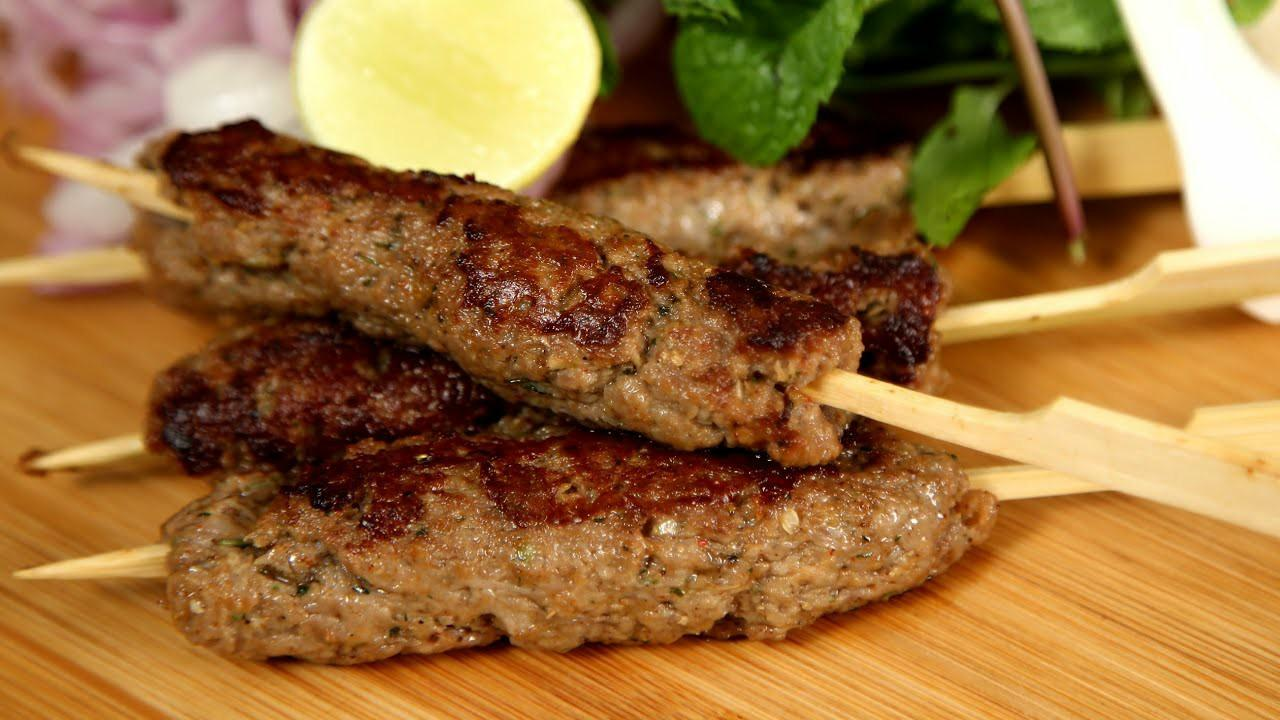Kebab: (129, 118, 862, 465), (143, 250, 947, 478), (172, 450, 995, 652), (127, 140, 920, 310)
